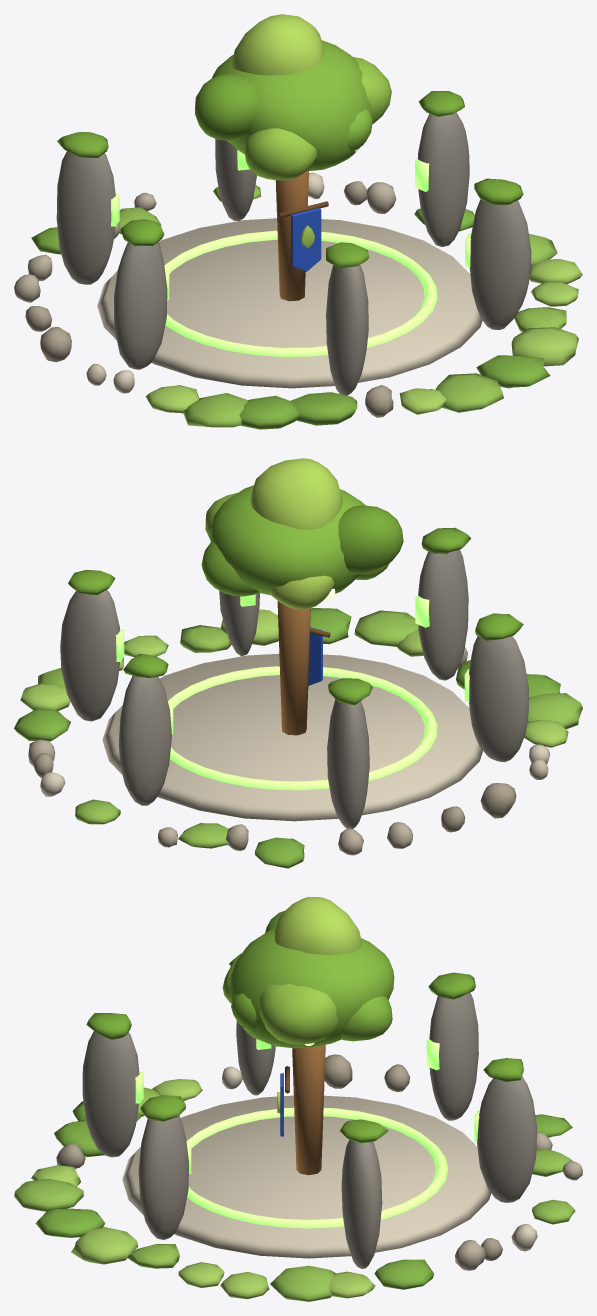
3 views of the same model, one above another, from view 1: azimuth 30°, elevation 25°; view 2: azimuth 150°, elevation 25°; view 3: azimuth 270°, elevation 25° (orthographic). The views are drawn at different scales.
Visible parts, largest first — view 1: root_matte#d6ccb6, root_matte#9a9488, root_matte#86bc40, root_matte#76aa36, root_glow#7dff5a, root_matte#a8d060, root_matte#94c252, root_matte#7fb243, root_matte#b6dc5c, root_matte#9ccc4c, root_matte#a99e8a, youngTree (+2 smaller); view 2: root_matte#d6ccb6, root_matte#9a9488, root_matte#86bc40, root_matte#76aa36, root_matte#94c252, root_matte#b6dc5c, root_glow#7dff5a, root_matte#7fb243, root_matte#a8d060, youngTree, root_matte#b8ad98, root_matte#a99e8a (+2 smaller); view 3: root_matte#d6ccb6, root_matte#9a9488, root_matte#86bc40, root_matte#94c252, root_matte#a8d060, root_glow#7dff5a, root_matte#7fb243, root_matte#76aa36, root_matte#9ccc4c, root_matte#b6dc5c, youngTree, root_matte#a99e8a (+1 smaller).
Part boxes in pixels (x1=…): root_matte#d6ccb6: x1=97, y1=172, x2=482, y2=393; root_matte#9a9488: x1=56, y1=112, x2=531, y2=395; root_matte#86bc40: x1=212, y1=40, x2=372, y2=171; root_matte#76aa36: x1=57, y1=73, x2=523, y2=268; root_glow#7dff5a: x1=111, y1=150, x2=471, y2=356; root_matte#a8d060: x1=145, y1=259, x2=582, y2=414; root_matte#94c252: x1=118, y1=185, x2=566, y2=427; root_matte#7fb243: x1=31, y1=208, x2=550, y2=429; root_matte#b6dc5c: x1=230, y1=14, x2=323, y2=248; root_matte#9ccc4c: x1=244, y1=57, x2=391, y2=180; root_matte#a99e8a: x1=25, y1=181, x2=393, y2=417; youngTree: x1=275, y1=171, x2=308, y2=301; root_matte#d6ccb6: x1=40, y1=653, x2=549, y2=821; root_matte#9a9488: x1=60, y1=550, x2=528, y2=828; root_matte#86bc40: x1=201, y1=485, x2=365, y2=596; root_matte#76aa36: x1=68, y1=505, x2=523, y2=705; root_matte#94c252: x1=38, y1=610, x2=582, y2=848; root_matte#b6dc5c: x1=250, y1=458, x2=342, y2=609; root_glow#7dff5a: x1=115, y1=594, x2=469, y2=790; root_matte#7fb243: x1=14, y1=608, x2=560, y2=868; root_matte#a8d060: x1=20, y1=609, x2=568, y2=747; youngTree: x1=277, y1=601, x2=310, y2=735; root_matte#b8ad98: x1=28, y1=739, x2=412, y2=855; root_matte#a99e8a: x1=34, y1=647, x2=516, y2=832; root_matte#d6ccb6: x1=122, y1=1066, x2=537, y2=1258; root_matte#9a9488: x1=82, y1=992, x2=537, y2=1268; root_matte#86bc40: x1=229, y1=928, x2=394, y2=1048; root_matte#94c252: x1=14, y1=1087, x2=575, y2=1301; root_matte#a8d060: x1=31, y1=1079, x2=375, y2=1299; root_glow#7dff5a: x1=135, y1=1039, x2=479, y2=1228; root_matte#7fb243: x1=35, y1=1101, x2=572, y2=1289; root_matte#76aa36: x1=86, y1=911, x2=523, y2=1143; root_matte#9ccc4c: x1=222, y1=956, x2=338, y2=1044; root_matte#b6dc5c: x1=274, y1=897, x2=361, y2=1113; youngTree: x1=292, y1=1044, x2=325, y2=1175; root_matte#a99e8a: x1=56, y1=1054, x2=502, y2=1260.
Size of the model in its own units: 3.09 by 1.78 by 3.2.
